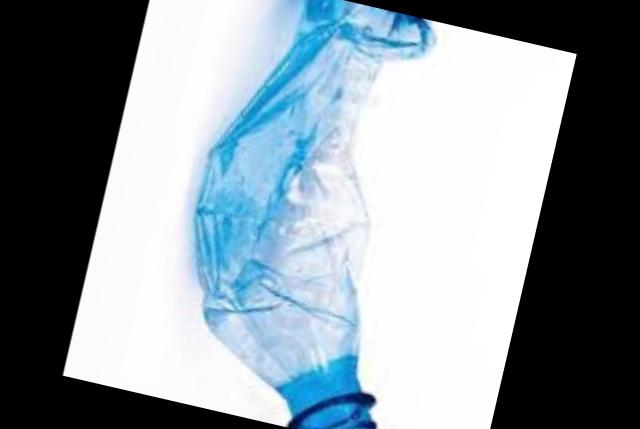plastic: (200, 0, 438, 429)
